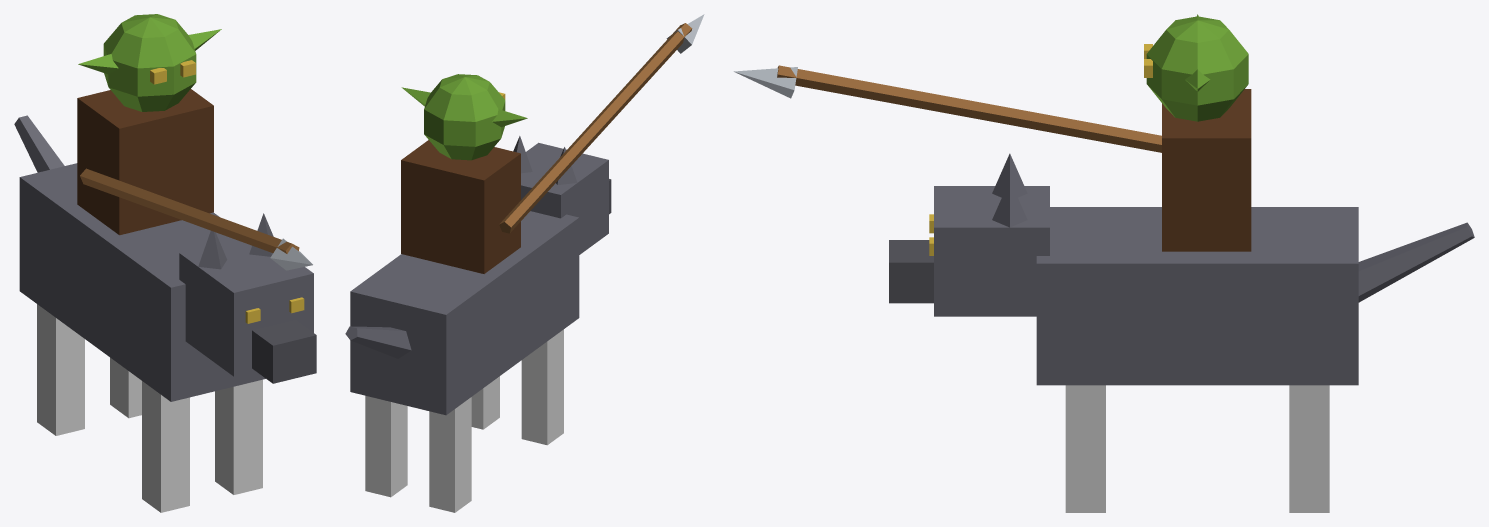
The model's file is e_wolf.fbx.
3 renders of one model, left to right at view 1: azimuth 30°, elevation 25°; view 2: azimuth 150°, elevation 25°; view 3: azimuth 270°, elevation 25°, orthographic. The views are drawn at different scales.
Visible parts, largest first — view 1: e_wolf_Body, e_wolf_LegL, e_wolf_LegR; view 2: e_wolf_Body, e_wolf_LegR, e_wolf_LegL; view 3: e_wolf_Body, e_wolf_LegL, e_wolf_LegR.
Part boxes in pixels (x1,y1,x2,y2): e_wolf_Body: (14,14,316,401); e_wolf_LegL: (142,379,262,512); e_wolf_LegR: (37,304,141,435); e_wolf_Body: (345,14,704,415); e_wolf_LegR: (365,395,471,512); e_wolf_LegL: (471,329,563,445); e_wolf_Body: (733,14,1474,385); e_wolf_LegL: (1065,385,1105,512); e_wolf_LegR: (1289,385,1329,512).
Size of the model in its own units: 0.3971 by 1.15 by 1.66.
